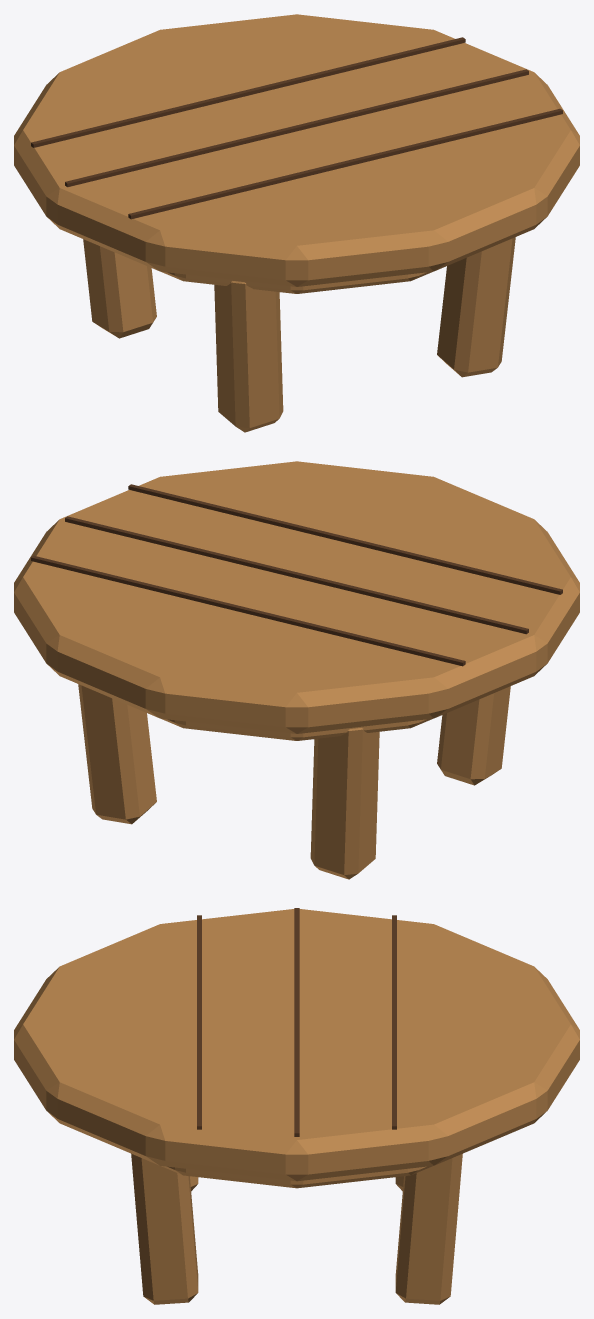
File: low_table_round.glb
3 renders of one model, top to bottom at view 1: azimuth 30°, elevation 25°; view 2: azimuth 150°, elevation 25°; view 3: azimuth 270°, elevation 25°, orthographic.
Visible parts, largest first — view 1: low_table_round; view 2: low_table_round; view 3: low_table_round.
Part boxes in pixels (<box>): low_table_round: <box>14,14,579,432</box>; low_table_round: <box>14,461,579,879</box>; low_table_round: <box>14,908,579,1304</box>.
Bounding box in the file's own units: 0.8707 × 0.3799 × 0.8707.
